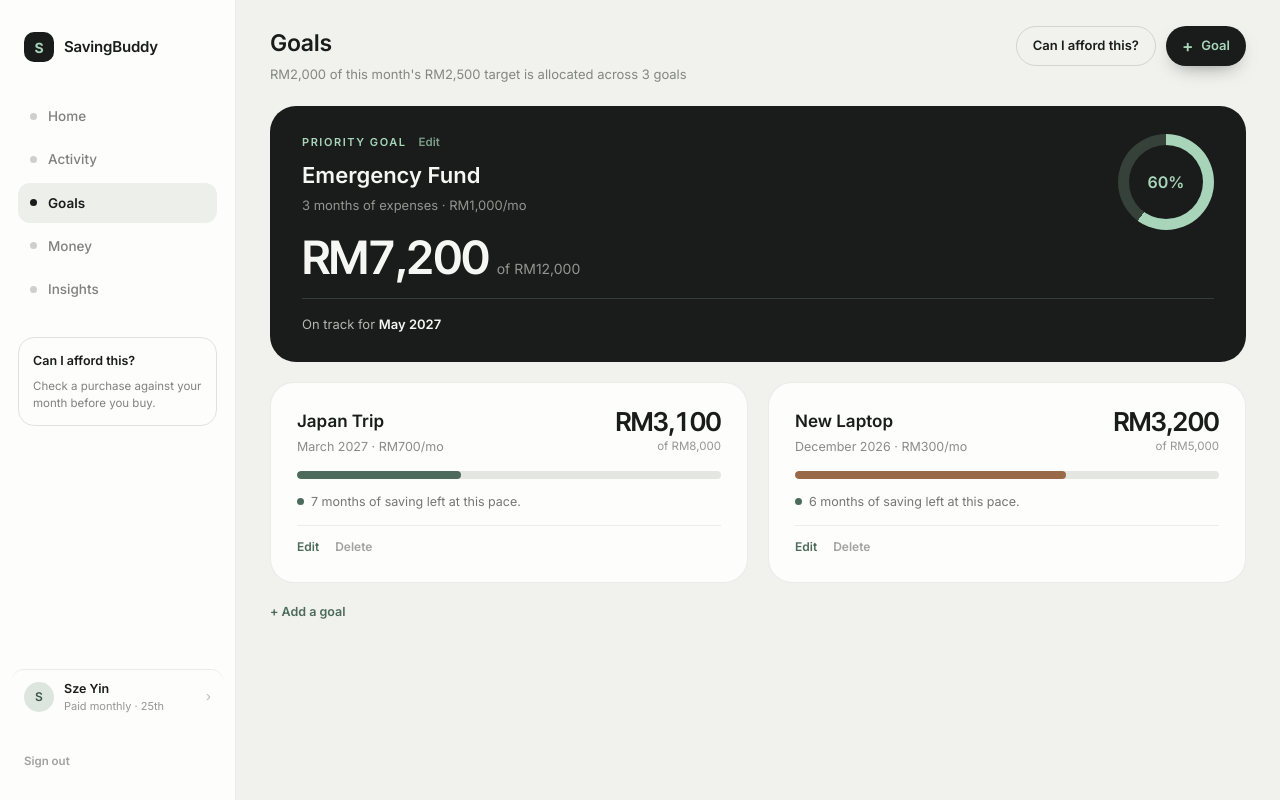
it: AppShell primary action › adds a goal on the goals screen, not an expense
This screenshot has width=1280, height=800.
Click the button "+ Goal": (1206, 46) [1166,26,1246,66]
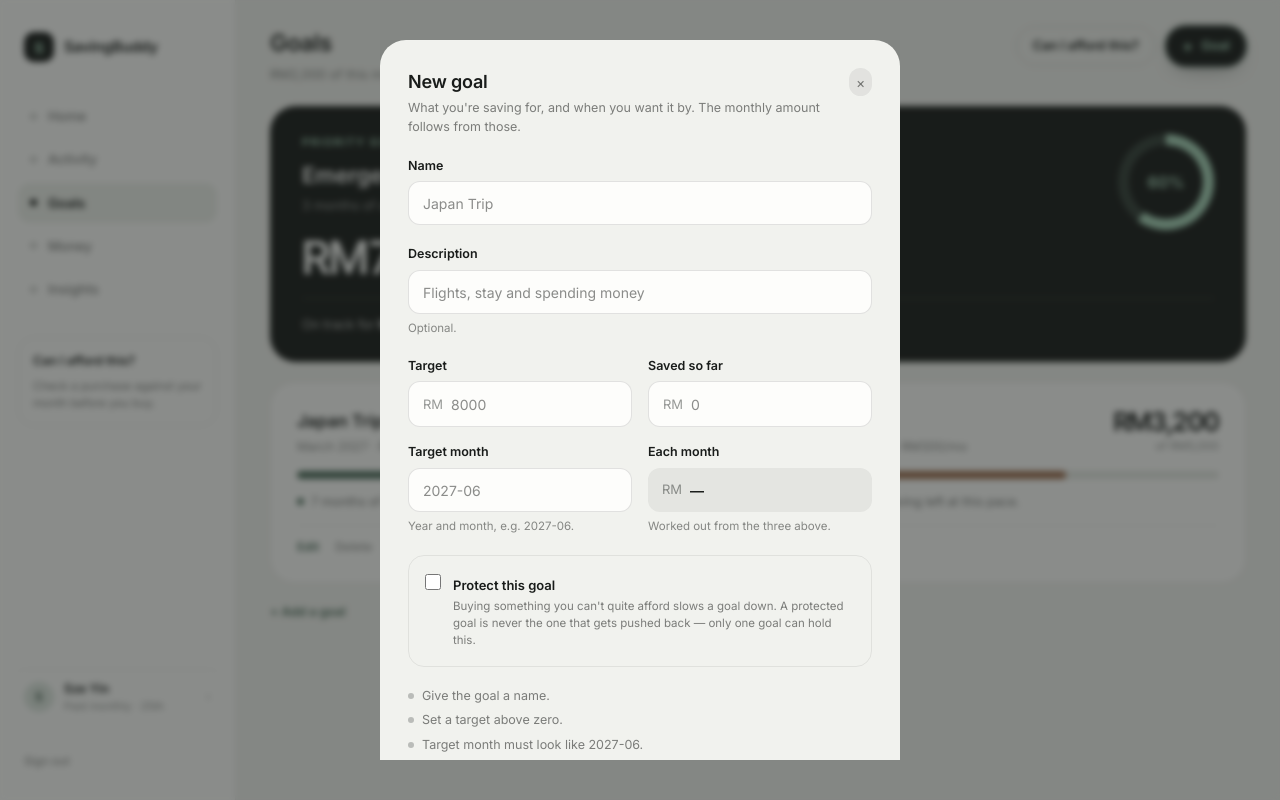
Expected: the heading "New goal" is shown, [408,71,488,92]
